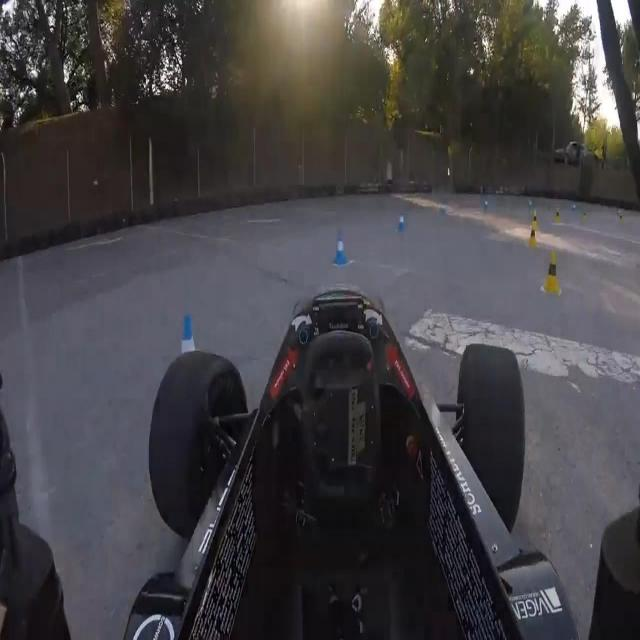blue_cone: (334, 228, 351, 270), (398, 213, 407, 234)
yellow_cone: (540, 249, 562, 296), (528, 223, 540, 252)
